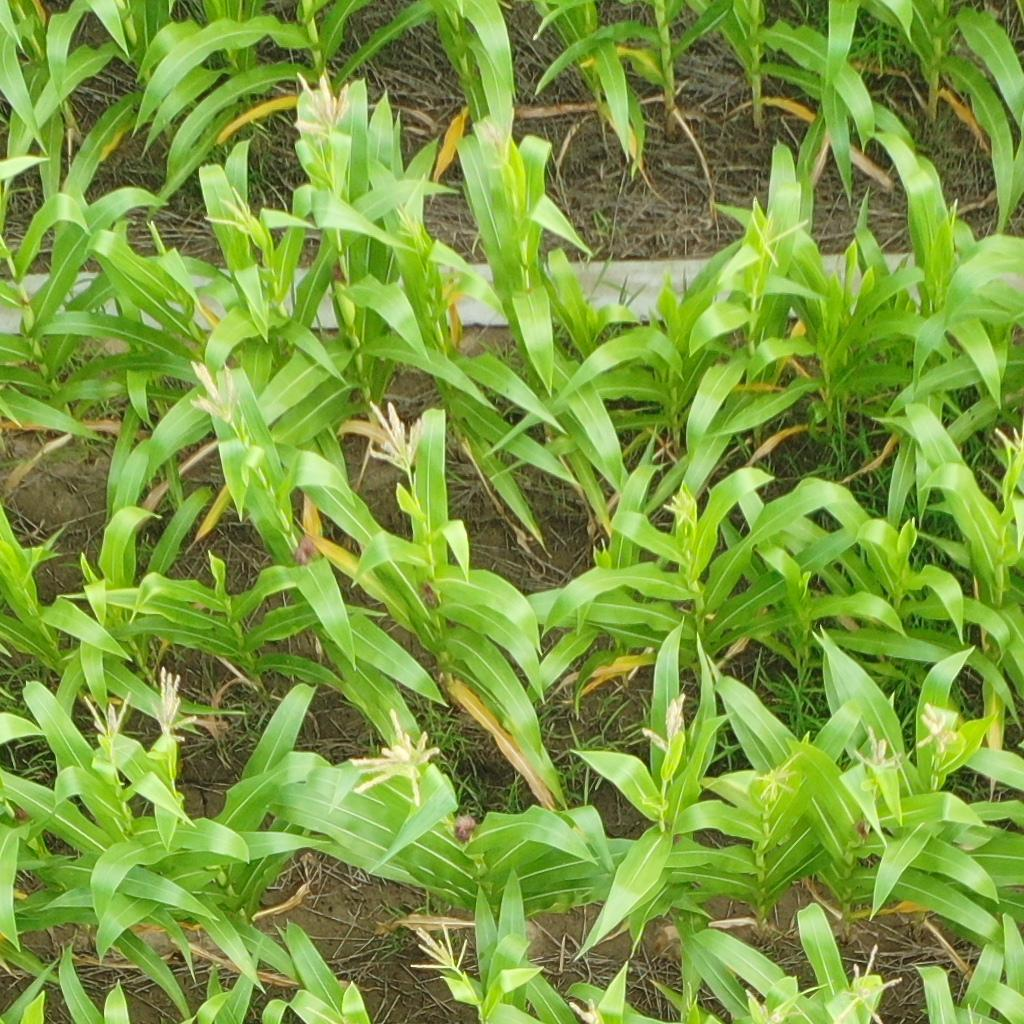Tassel: (348, 708, 445, 809), (833, 942, 904, 1024), (738, 201, 808, 267), (146, 664, 199, 751), (186, 360, 249, 432), (368, 398, 424, 476), (292, 69, 352, 140), (406, 922, 471, 979), (641, 691, 689, 756), (84, 689, 133, 750), (914, 700, 962, 759), (203, 185, 260, 234), (850, 725, 903, 776), (477, 108, 517, 171), (759, 749, 805, 802), (394, 201, 433, 248), (748, 989, 794, 1024), (663, 490, 698, 531), (989, 422, 1024, 462), (564, 994, 603, 1024), (682, 981, 701, 1011)
